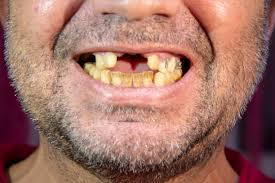decay: (122, 72, 133, 86), (143, 71, 153, 86), (134, 71, 142, 87), (159, 57, 167, 72)
normal: (167, 55, 177, 74), (104, 54, 115, 68), (95, 54, 104, 68), (90, 66, 95, 77), (84, 64, 90, 73)
rough: (127, 53, 147, 71), (115, 54, 127, 69)
yellow: (109, 72, 121, 86), (148, 56, 159, 71), (153, 71, 163, 85), (101, 69, 110, 83), (94, 69, 101, 81), (163, 72, 170, 84), (171, 72, 177, 82)
